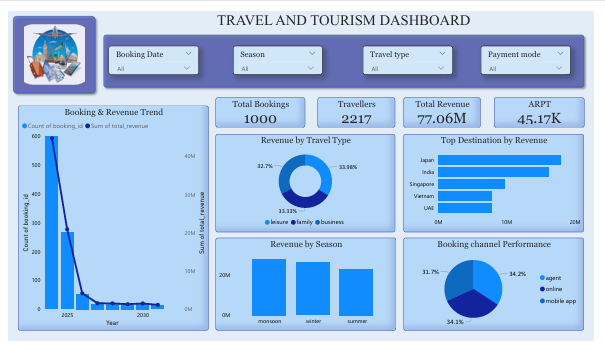

The dashboard page shown, as its layout file describes it:
{"tool":"powerbi","page":{"name":"Page 1","canvas":[1280,720],"ordinal":0},"visuals":[{"type":"shape","box":[0,0,198.4,187.1],"z":0},{"type":"image","box":[14.2,26.9,168.7,131.8],"z":1000},{"type":"shape","title":"TRAVEL AND TOURISM DASHBOARD","box":[198.4,0,1068.8,174.4],"z":2000},{"type":"slicer","fields":{"Values":["travel_tourism clean_bookings.booking_date.Variation.Date Hierarchy.Year"]},"box":[218.3,73.7,197,63.8],"z":3000},{"type":"slicer","fields":{"Values":["travel_tourism clean_bookings.season"]},"box":[490.5,73.7,195.6,63.8],"z":4000},{"type":"slicer","fields":{"Values":["travel_tourism clean_bookings.travel_type"]},"box":[774,73.7,197,63.8],"z":5000},{"type":"slicer","fields":{"Values":["travel_tourism clean_bookings.payment_mode"]},"box":[1031.9,73.7,197,63.8],"z":6000},{"type":"donutChart","title":"Revenue by Travel Type","fields":{"Category":["travel_tourism clean_bookings.travel_type"],"Y":["Sum(travel_tourism clean_bookings.total_revenue)"]},"box":[451.9,267.1,393.1,215],"z":7000},{"type":"pieChart","title":"Booking channel Performance","fields":{"Category":["travel_tourism clean_bookings.booking_channel"],"Y":["CountNonNull(travel_tourism clean_bookings.booking_id)"]},"box":[863.4,493.9,394.8,203.3],"z":8000},{"type":"clusteredBarChart","title":"Top Destination by Revenue ","fields":{"Category":["travel_tourism clean_bookings.destination"],"Y":["Sum(travel_tourism clean_bookings.total_revenue)"]},"box":[863.4,267.1,394.8,215],"z":9000},{"type":"columnChart","title":"Revenue by Season","fields":{"Category":["travel_tourism clean_bookings.season"],"Y":["Sum(travel_tourism clean_bookings.total_revenue)"]},"box":[451.9,493.9,394.8,203.3],"z":10000},{"type":"card","title":"Total Bookings","fields":{"Values":["travel_tourism clean_bookings.total bookings"]},"box":[452.2,187.2,195.8,66.2],"z":11000},{"type":"card","title":"ARPT","fields":{"Values":["travel_tourism clean_bookings.average revenue per traveler"]},"box":[1061.3,187.2,197.3,66.2],"z":12000},{"type":"card","title":"Total Revenue","fields":{"Values":["Sum(travel_tourism clean_bookings.total_revenue)"]},"box":[862.6,187.2,169.9,66.2],"z":13000},{"type":"card","title":"Travellers","fields":{"Values":["Sum(travel_tourism clean_bookings.number_of_travelers)"]},"box":[675.4,187.2,169.9,66.2],"z":14000},{"type":"lineClusteredColumnComboChart","title":"Booking & Revenue Trend","fields":{"Category":["travel_tourism clean_bookings.booking_date.Variation.Date Hierarchy.Year","travel_tourism clean_bookings.booking_date.Variation.Date Hierarchy.Quarter","travel_tourism clean_bookings.booking_date.Variation.Date Hierarchy.Month","travel_tourism clean_bookings.booking_date.Variation.Date Hierarchy.Day"],"Y2":["Sum(travel_tourism clean_bookings.total_revenue)"],"Y":["CountNonNull(travel_tourism clean_bookings.booking_id)"]},"box":[20.2,204.9,416.6,492.2],"z":15000}]}

Visuals, with their boxes in screenshot pixels (x1, y1, x2, y2):
shape: crop(14, 13, 103, 97)
image: crop(21, 25, 96, 84)
"TRAVEL AND TOURISM DASHBOARD" shape: crop(103, 13, 584, 91)
slicer - travel_tourism clean_bookings.booking_date.Variation.Date Hierarchy.Year: crop(112, 46, 201, 74)
slicer - travel_tourism clean_bookings.season: crop(235, 46, 323, 74)
slicer - travel_tourism clean_bookings.travel_type: crop(362, 46, 451, 74)
slicer - travel_tourism clean_bookings.payment_mode: crop(478, 46, 567, 74)
"Revenue by Travel Type" donutChart: crop(217, 133, 394, 229)
"Booking channel Performance" pieChart: crop(402, 235, 580, 326)
"Top Destination by Revenue " clusteredBarChart: crop(402, 133, 580, 229)
"Revenue by Season" columnChart: crop(217, 235, 395, 326)
"Total Bookings" card: crop(217, 97, 306, 127)
"ARPT" card: crop(491, 97, 580, 127)
"Total Revenue" card: crop(402, 97, 478, 127)
"Travellers" card: crop(318, 97, 394, 127)
"Booking & Revenue Trend" lineClusteredColumnComboChart: crop(23, 105, 211, 326)
